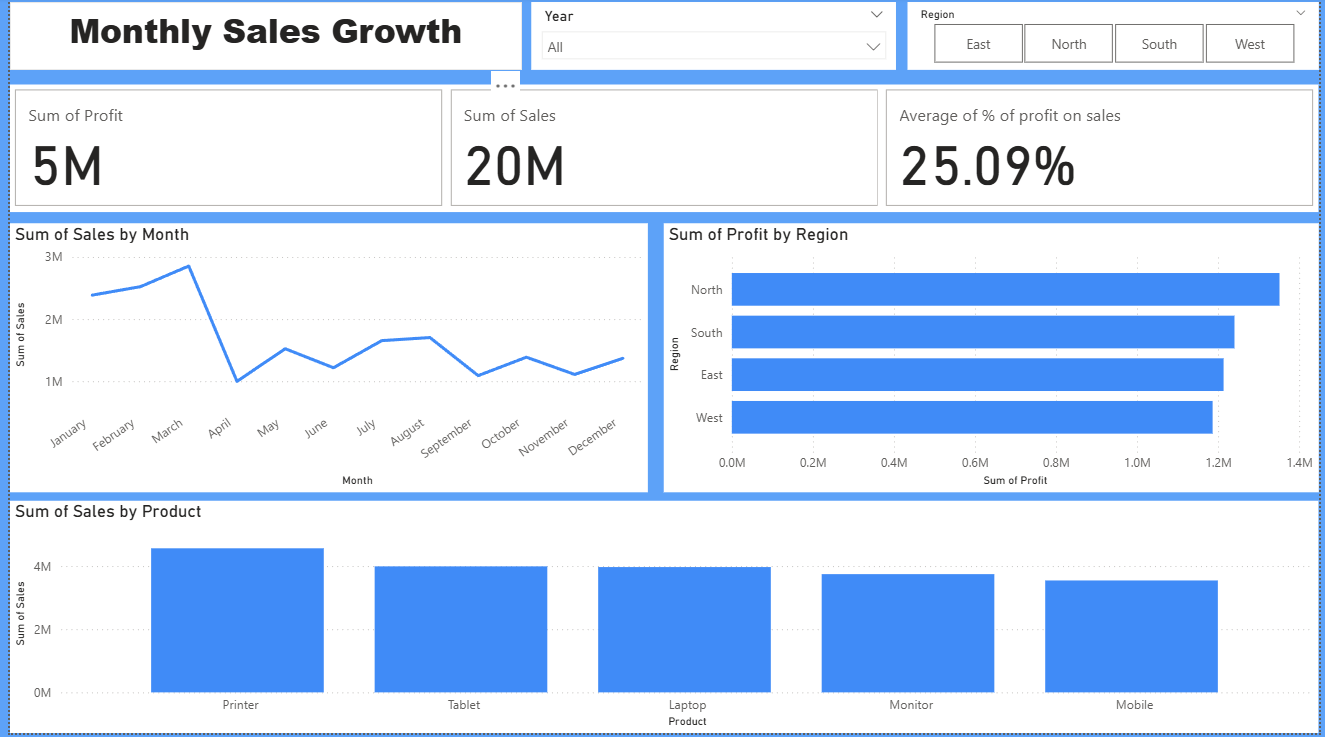

What the dashboard file says about the page in this screenshot:
{"tool":"powerbi","page":{"name":"Page 1","canvas":[1280,720],"ordinal":0},"visuals":[{"type":"cardVisual","fields":{"Data":["Sum(salesdb sales_data.Profit)","Sum(salesdb sales_data.Sales)","Avg(salesdb sales_data.% of profit on sales)"]},"box":[0,85.6,1280,124.7],"z":0},{"type":"lineChart","fields":{"Category":["salesdb sales_data.Order_Date.Variation.Date Hierarchy.Month"],"Y":["Sum(salesdb sales_data.Sales)"]},"box":[0,221.3,623.6,262.9],"z":1000},{"type":"barChart","fields":{"Y":["Sum(salesdb sales_data.Profit)"],"Category":["salesdb sales_data.Region"]},"box":[639.5,221.3,640.8,262.9],"z":2000},{"type":"columnChart","fields":{"Category":["salesdb sales_data.Product"],"Y":["Sum(salesdb sales_data.Sales)"]},"box":[0,492.8,1280.3,227.4],"z":3000},{"type":"slicer","fields":{"Values":["salesdb sales_data.Order_Date.Variation.Date Hierarchy.Year"]},"box":[509.9,4.9,357.1,66],"z":4000},{"type":"slicer","fields":{"Values":["salesdb sales_data.Region"]},"box":[878,4.9,402.3,66],"z":5000},{"type":"textbox","box":[0,4.9,500.1,66],"z":6000}]}

Visuals, with their boxes in screenshot pixels (x1, y1, x2, y2), scaled from the page's 1280x720 canvas onto the 1325x737 screenshot:
cardVisual - Sum(salesdb sales_data.Profit) x Sum(salesdb sales_data.Sales): {"x1": 0, "y1": 88, "x2": 1324, "y2": 215}
lineChart - salesdb sales_data.Order_Date.Variation.Date Hierarchy.Month x Sum(salesdb sales_data.Sales): {"x1": 0, "y1": 227, "x2": 646, "y2": 496}
barChart - Sum(salesdb sales_data.Profit) x salesdb sales_data.Region: {"x1": 662, "y1": 227, "x2": 1324, "y2": 496}
columnChart - salesdb sales_data.Product x Sum(salesdb sales_data.Sales): {"x1": 0, "y1": 504, "x2": 1324, "y2": 736}
slicer - salesdb sales_data.Order_Date.Variation.Date Hierarchy.Year: {"x1": 528, "y1": 5, "x2": 897, "y2": 73}
slicer - salesdb sales_data.Region: {"x1": 909, "y1": 5, "x2": 1324, "y2": 73}
textbox: {"x1": 0, "y1": 5, "x2": 518, "y2": 73}
